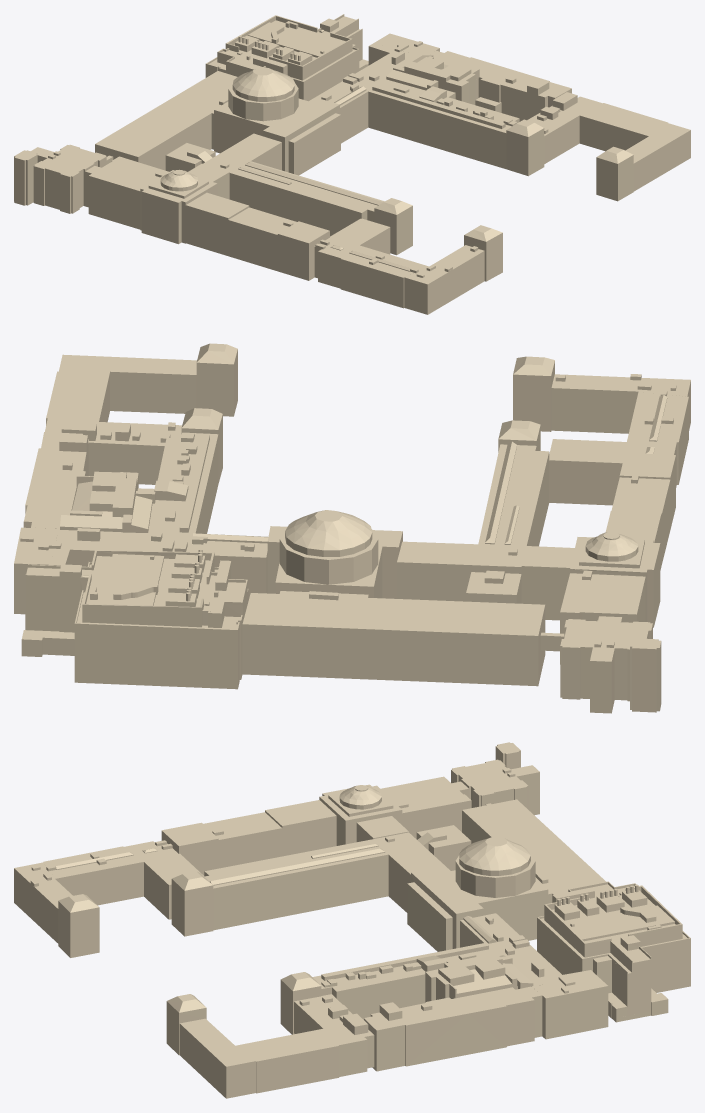
Rendered from DOMO - Copy.gltf.
3 views of the same model, one above another, from view 1: azimuth 30°, elevation 25°; view 2: azimuth 150°, elevation 25°; view 3: azimuth 270°, elevation 25° (orthographic). The views are drawn at different scales.
Visible parts, largest first — view 1: Camb3D_Bldg_Active_MP; view 2: Camb3D_Bldg_Active_MP; view 3: Camb3D_Bldg_Active_MP.
Part boxes in pixels (x1,y1,x2,y2): Camb3D_Bldg_Active_MP: [14, 14, 690, 314]; Camb3D_Bldg_Active_MP: [14, 343, 690, 713]; Camb3D_Bldg_Active_MP: [14, 742, 690, 1098].
Bounding box in the file's own units: 1123 × 156 × 1049.
